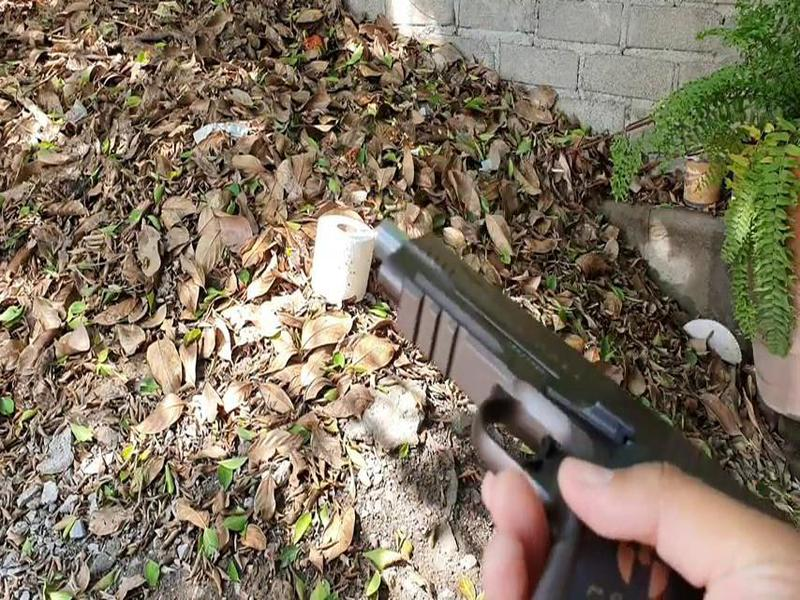Pistola: (337, 216, 716, 599)
